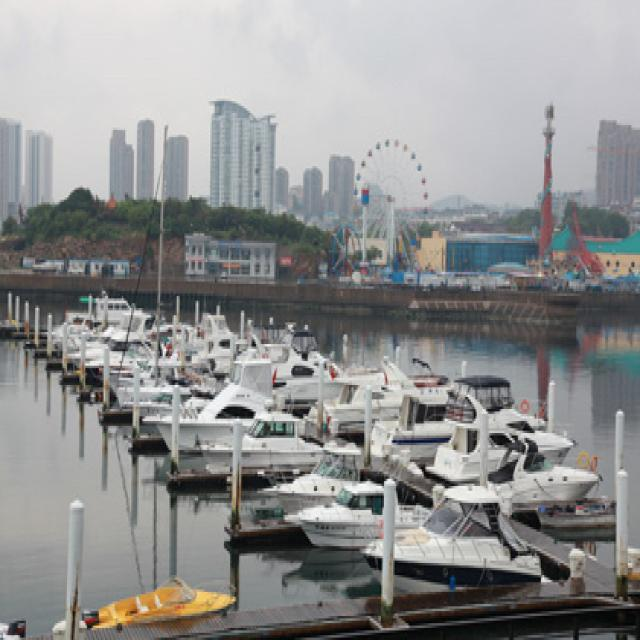passenger ship: (157, 388, 281, 526), (394, 376, 584, 459), (440, 414, 579, 516), (359, 522, 532, 598), (289, 473, 402, 538), (219, 417, 315, 482)
